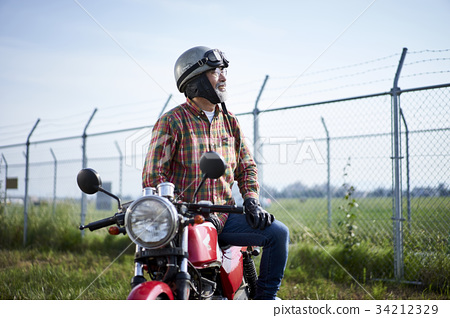helmet: (169, 42, 227, 81)
